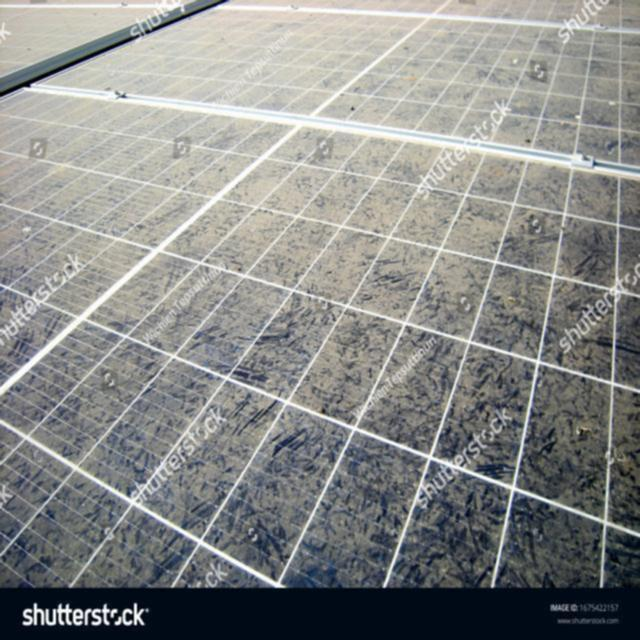soiled: (13, 10, 634, 592)
